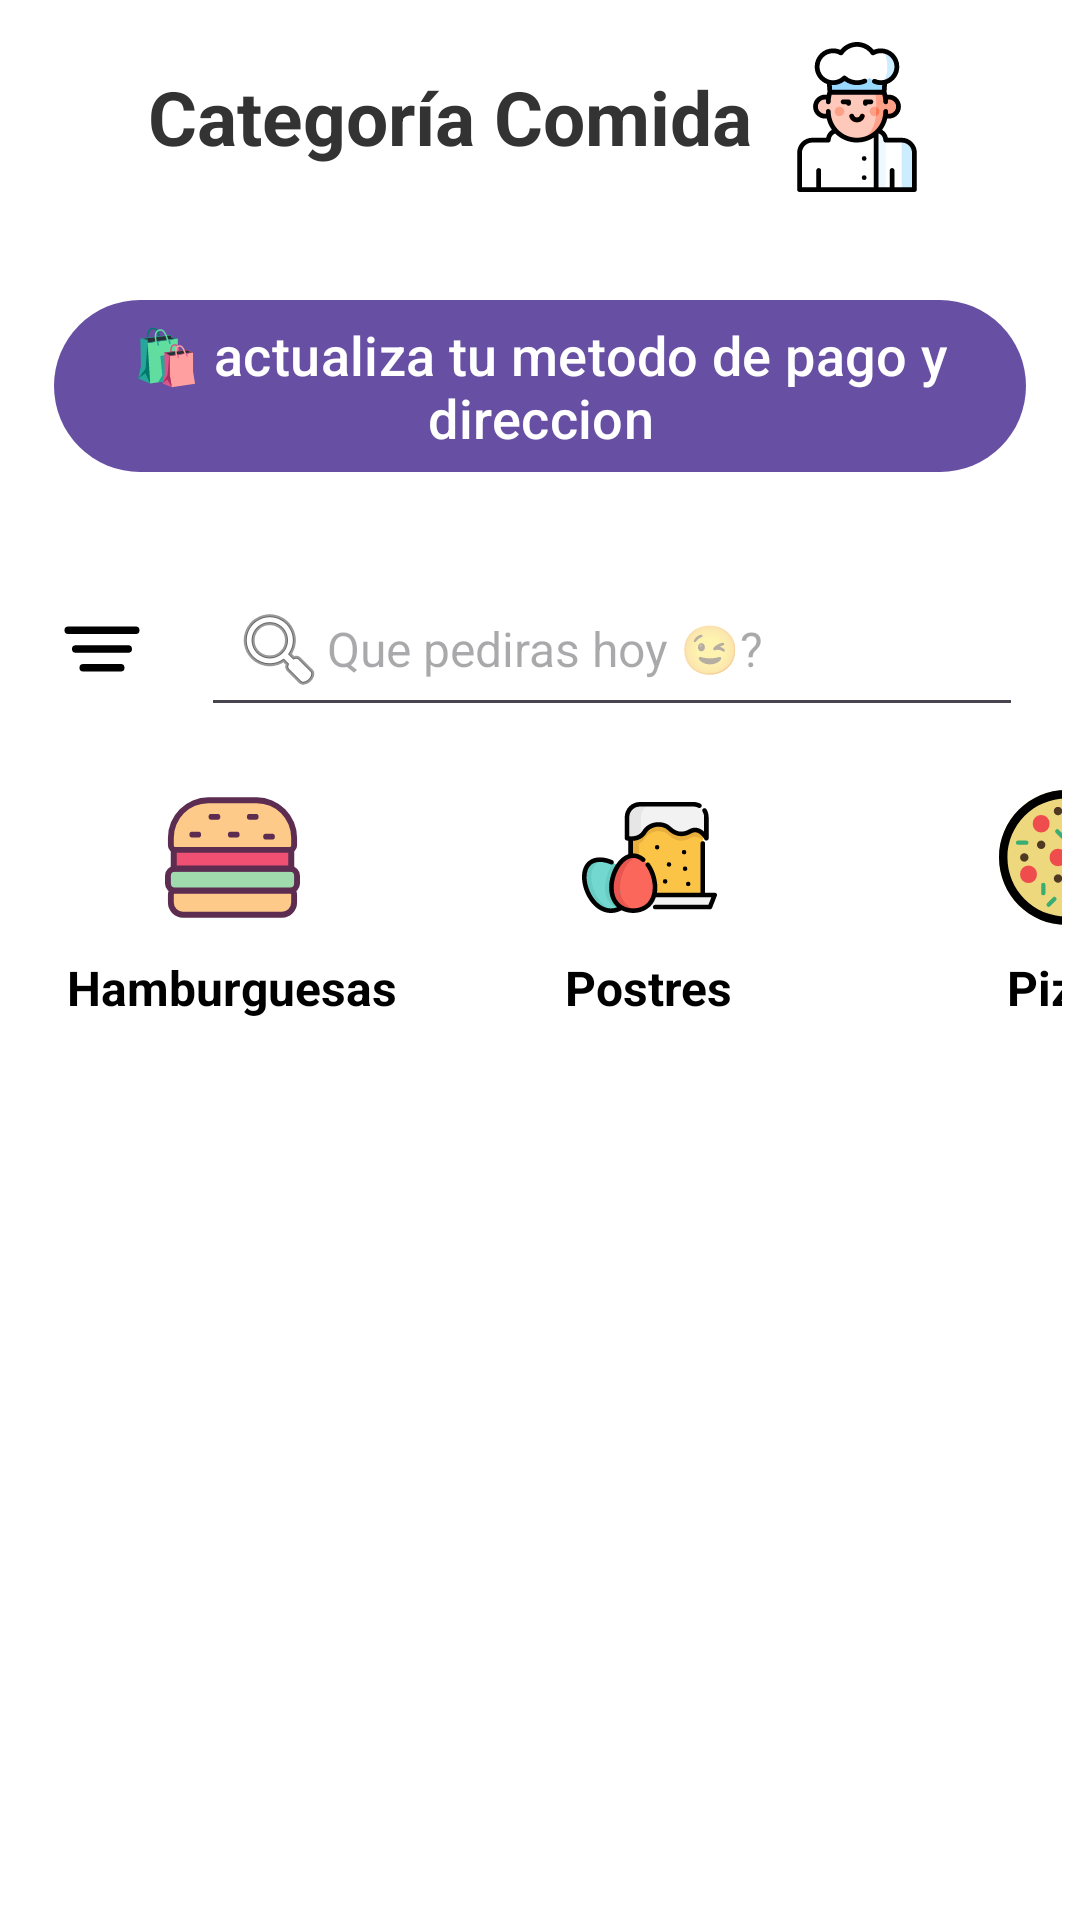

Locate icon controls on the screen. Image size 1080 × 1920, boxes as {"x1": x1, "y1": y1, "x2": x2, "y2": y2}.
Filtrar: {"x1": 64, "y1": 626, "x2": 140, "y2": 672}
pastel: {"x1": 582, "y1": 802, "x2": 717, "y2": 913}
